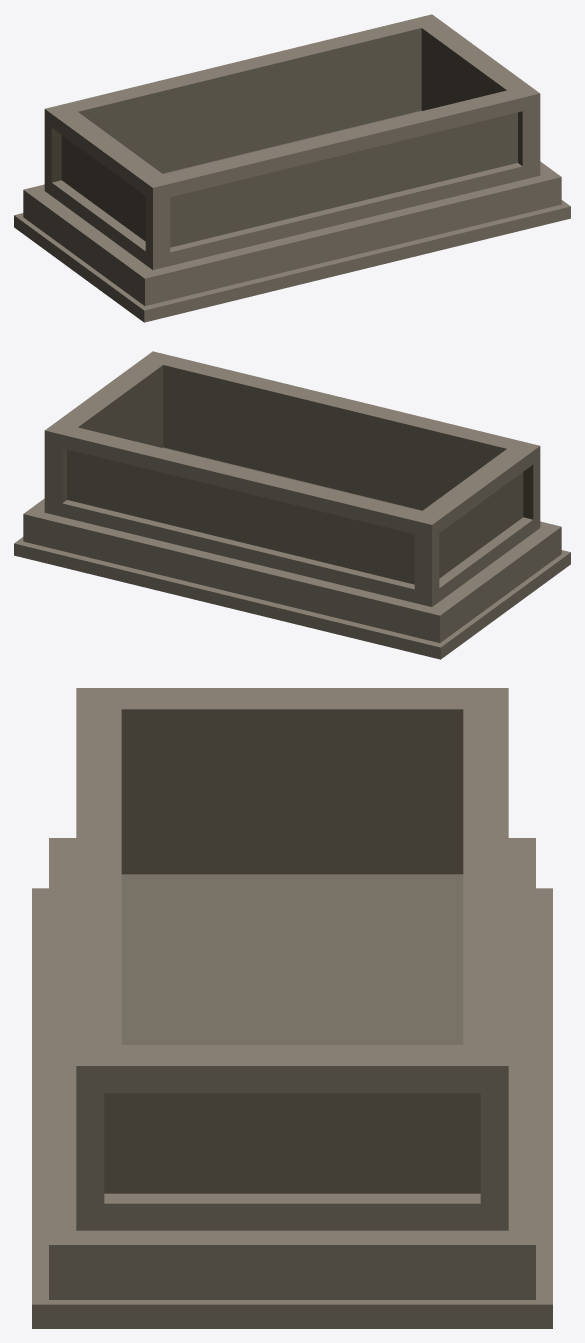
File: ManmadeMore_SF_Prop_Undead_Chest_01.fbx
The picture shows the model from 3 angles, top to bottom: view 1: azimuth 30°, elevation 25°; view 2: azimuth 150°, elevation 25°; view 3: azimuth 270°, elevation 25°; orthographic projection. The views are drawn at different scales.
Visible parts, largest first — view 1: SF_Prop_Undead_Chest_01; view 2: SF_Prop_Undead_Chest_01; view 3: SF_Prop_Undead_Chest_01.
Part boxes in pixels (box(x1,y1,x2,y2)): SF_Prop_Undead_Chest_01: box(14, 14, 570, 322); SF_Prop_Undead_Chest_01: box(14, 351, 570, 659); SF_Prop_Undead_Chest_01: box(32, 688, 552, 1328).
Size of the model in its own units: 291 by 79.44 by 154.
